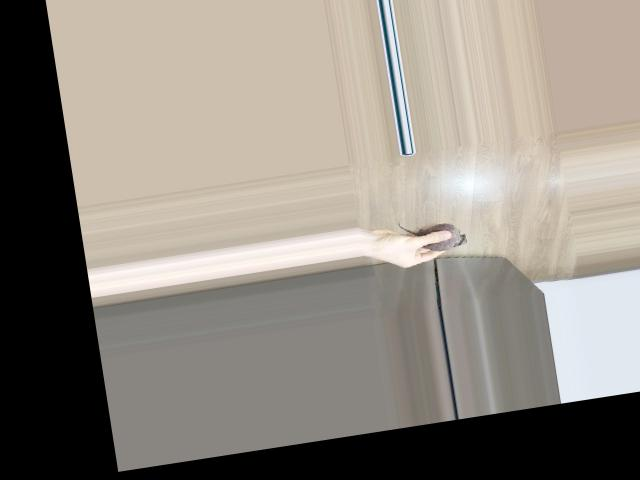beet: (398, 211, 469, 256)
